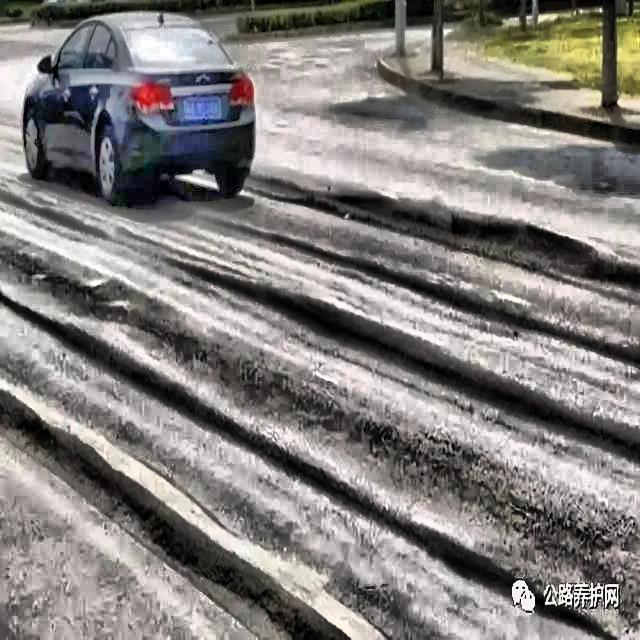buraco: (14, 416, 332, 640), (262, 286, 640, 472), (256, 224, 640, 368), (292, 178, 640, 304), (396, 526, 640, 639)
